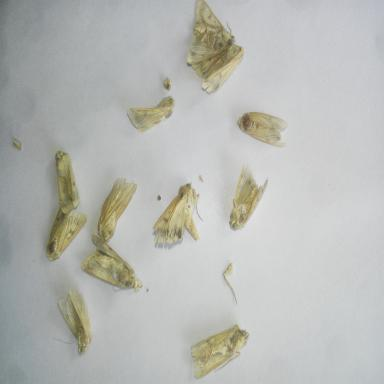abw: (78, 233, 144, 297), (187, 320, 252, 384), (148, 177, 204, 251), (95, 172, 147, 247), (182, 1, 240, 68), (186, 41, 248, 98), (227, 161, 274, 236), (42, 201, 91, 266), (54, 283, 94, 359), (235, 106, 291, 156), (124, 92, 178, 138), (53, 146, 84, 217)
